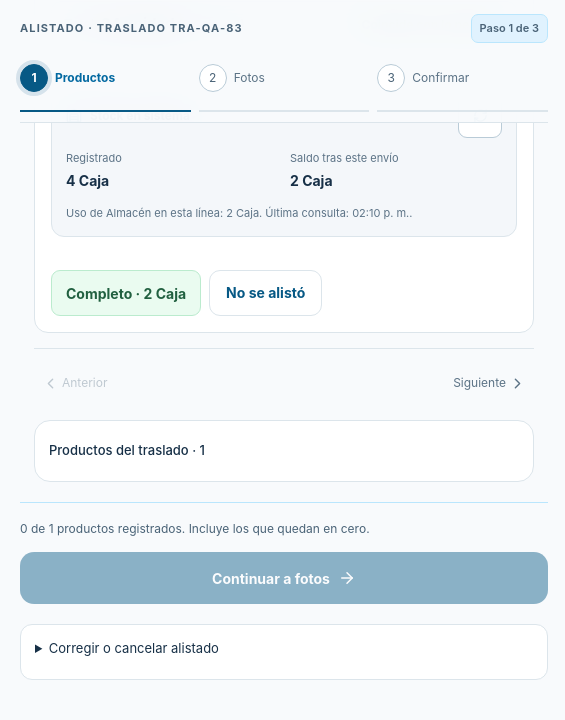
Traslado con asistente y saldo registrado › no marca productos guardados al saltar una línea sin confirmar
The width and height of the screenshot is (565, 720).
(page scrolled)
Click the button "Siguiente" at (490, 383), box [445,361,534,405]
(page scrolled)
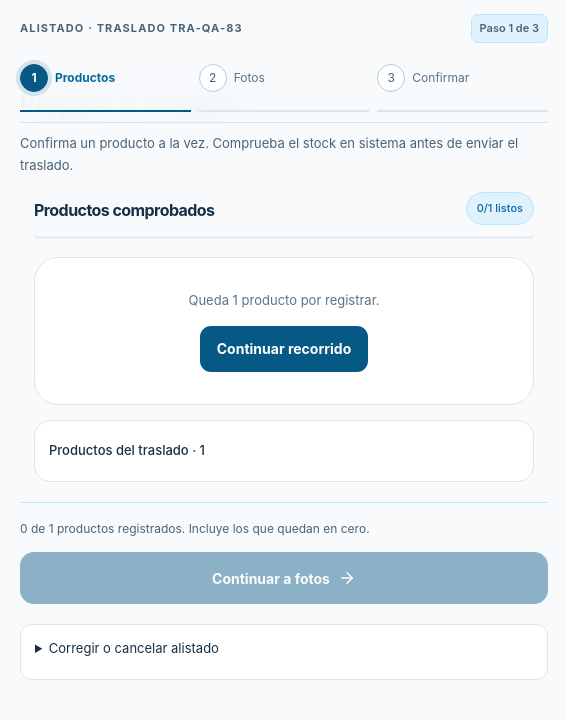
Check: the button "Continuar a fotos" is disabled, box [20,552,548,604]
Check: the text "Queda 1 producto por registrar" is shown, box [188,292,380,308]
Check: the button "Continuar recorrido" is shown
Click the button "Continuar recorrido" at (284, 349), box [200,326,368,372]
(page scrolled)
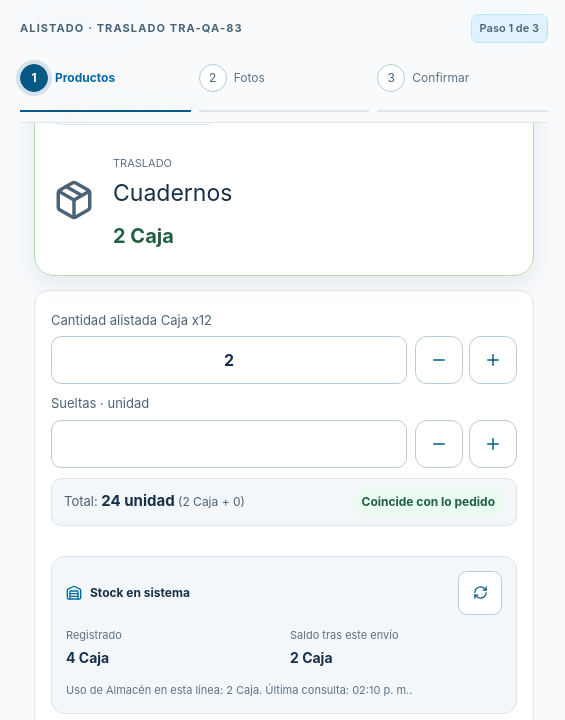
Check: the field labelled "Cantidad alistada Caja x12" holds "2", box [51,336,407,384]
